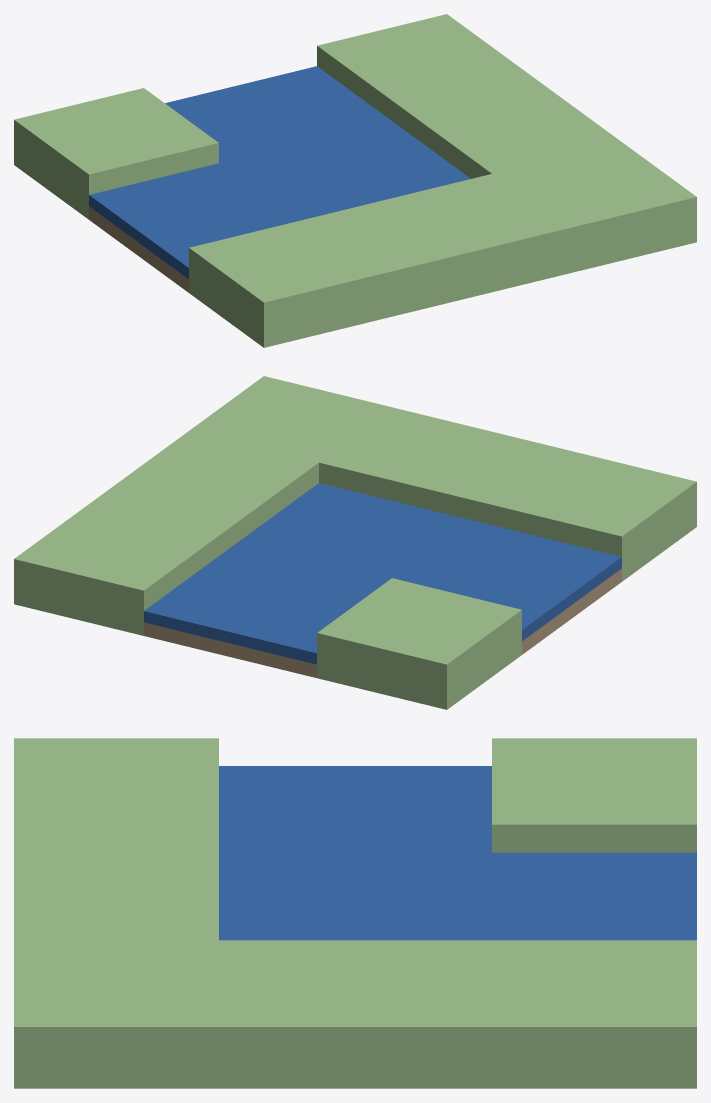
The model's file is river_corner.glb.
The picture shows the model from 3 angles, top to bottom: view 1: azimuth 30°, elevation 25°; view 2: azimuth 150°, elevation 25°; view 3: azimuth 270°, elevation 25°; orthographic projection. The views are drawn at different scales.
Parts seen in each view (by area): view 1: river_corner_grass_bottom, river_corner_grass_right, river_corner_water_h, river_corner_grass_tl, river_corner_water_v, river_corner_bed_h; view 2: river_corner_grass_bottom, river_corner_grass_right, river_corner_water_v, river_corner_water_h, river_corner_grass_tl, river_corner_bed_v, river_corner_bed_h; view 3: river_corner_grass_bottom, river_corner_grass_right, river_corner_water_h, river_corner_water_v, river_corner_grass_tl.
Part boxes in pixels (x1,y1,x2,y2): river_corner_grass_bottom: (189, 142, 696, 347); river_corner_grass_right: (317, 14, 621, 178); river_corner_water_h: (89, 121, 441, 278); river_corner_grass_tl: (14, 88, 218, 219); river_corner_water_v: (165, 66, 470, 204); river_corner_bed_h: (89, 206, 188, 292); river_corner_grass_bottom: (189, 376, 696, 581); river_corner_grass_right: (14, 431, 318, 635); river_corner_water_v: (144, 501, 491, 664); river_corner_water_h: (219, 483, 621, 640); river_corner_grass_tl: (317, 578, 521, 709); river_corner_bed_v: (144, 622, 316, 677); river_corner_bed_h: (522, 568, 621, 654); river_corner_grass_bottom: (14, 738, 218, 1088); river_corner_grass_right: (219, 940, 696, 1088); river_corner_water_h: (219, 766, 491, 940); river_corner_water_v: (219, 852, 696, 940); river_corner_grass_tl: (492, 738, 696, 852).
Bounding box in the file's own units: 2 × 0.2 × 2.
